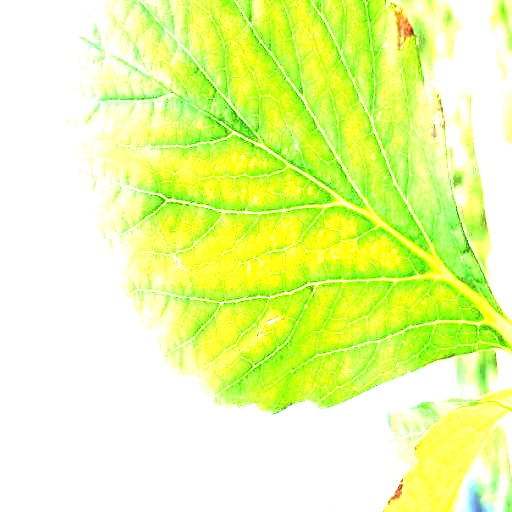Angular Leafspot: (191, 117, 421, 284)
